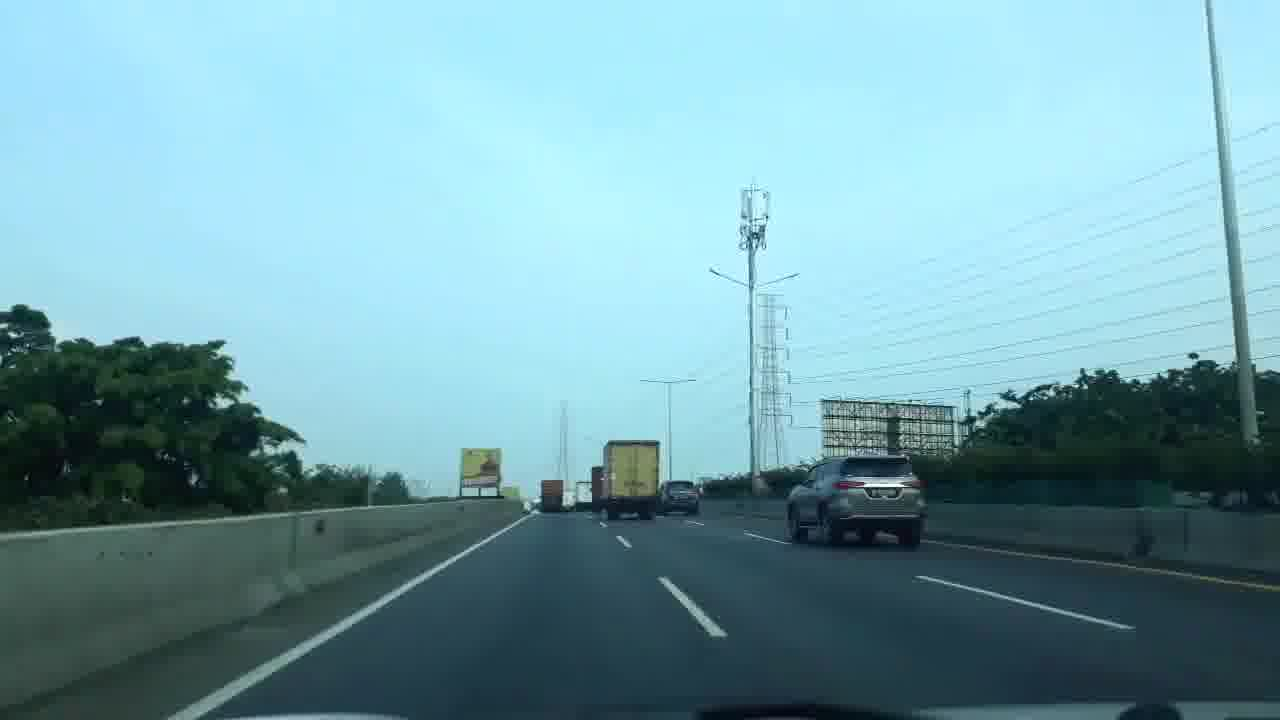plate_positive: (870, 488, 898, 498)
